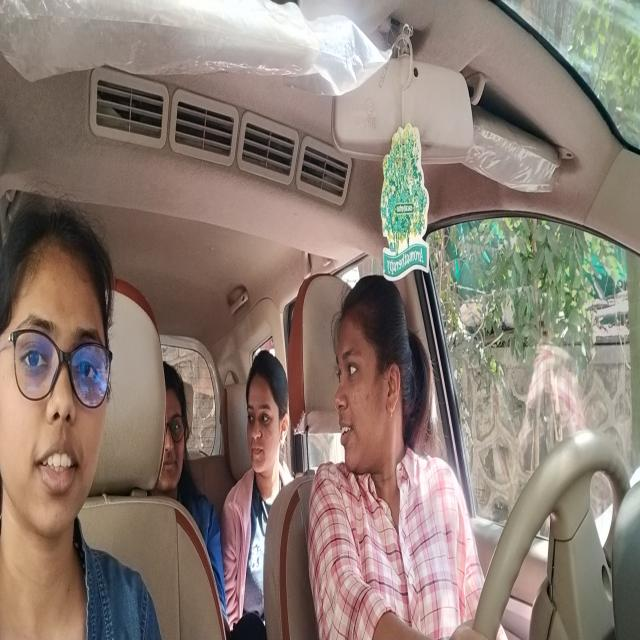LeftRight: (336, 276, 429, 481)
person: (0, 194, 118, 570), (242, 345, 288, 479), (163, 354, 193, 488)
talking: (339, 420, 356, 446)
